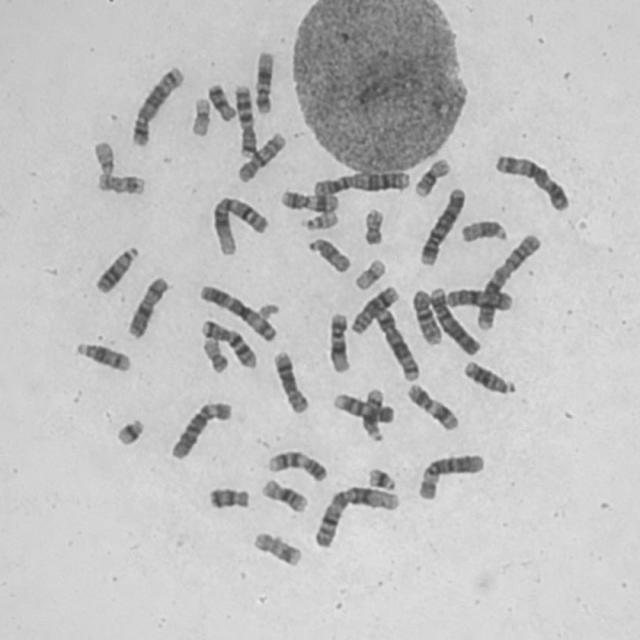A1: (309, 481, 402, 549), (207, 192, 270, 258)
A2: (473, 230, 543, 333), (310, 167, 412, 197)
A3: (194, 280, 279, 343), (490, 150, 571, 213)
B4: (415, 184, 467, 268), (426, 284, 482, 358)
B5: (127, 61, 185, 148), (371, 304, 421, 382)
C10: (233, 128, 288, 184), (408, 286, 443, 347)
C11: (403, 380, 461, 432), (276, 186, 340, 214)
C12: (250, 46, 276, 116), (325, 309, 352, 375)
C6: (166, 398, 233, 462), (414, 450, 486, 502)
C7: (197, 316, 258, 370), (231, 80, 257, 159)
C8: (347, 282, 400, 335), (269, 347, 310, 415)
C9: (264, 446, 329, 484), (329, 389, 396, 424)
D13: (90, 242, 140, 295), (460, 357, 516, 396)
D14: (71, 338, 132, 374), (358, 385, 386, 443)
D15: (304, 234, 352, 275), (457, 216, 510, 245)
E16: (258, 475, 308, 515), (411, 154, 452, 198)
E17: (249, 528, 303, 569), (93, 169, 146, 198)
E18: (203, 79, 237, 123), (204, 483, 251, 512)
F19: (351, 255, 387, 291), (186, 93, 212, 138)
F20: (198, 334, 230, 374), (360, 205, 386, 247)
G21: (112, 413, 146, 447), (363, 464, 398, 492)
G22: (88, 137, 116, 176), (299, 208, 340, 231)
X: (123, 272, 170, 340), (440, 285, 514, 312)
